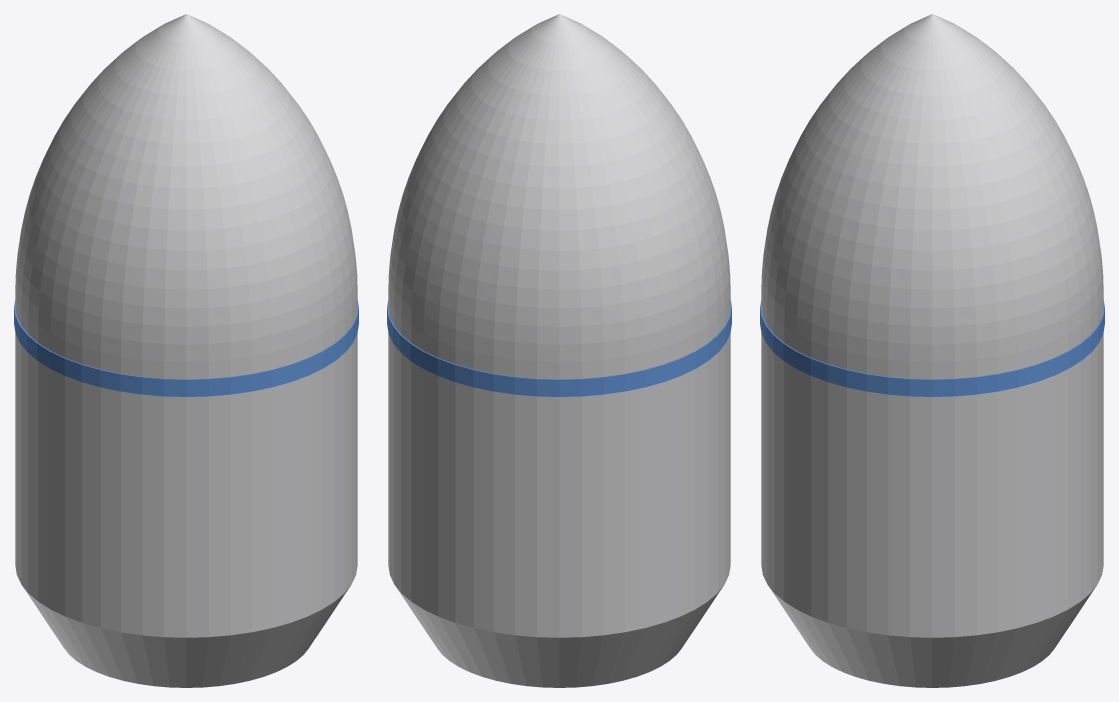
Rendered from nose_fairing.glb.
3 views of the same model, side by side, from view 1: azimuth 30°, elevation 25°; view 2: azimuth 150°, elevation 25°; view 3: azimuth 270°, elevation 25° (orthographic).
Parts seen in each view (by area): view 1: nose_fairing_0, nose_fairing_1; view 2: nose_fairing_0, nose_fairing_1; view 3: nose_fairing_0, nose_fairing_1.
Boxes of the visible parts, box(x1,y1,x2,y2) form: nose_fairing_0: box(15, 14, 357, 687); nose_fairing_1: box(14, 300, 358, 396); nose_fairing_0: box(388, 14, 730, 687); nose_fairing_1: box(387, 300, 731, 396); nose_fairing_0: box(761, 14, 1103, 687); nose_fairing_1: box(760, 300, 1104, 396).
Size of the model in its own units: 2.72 by 5.4 by 2.72.
